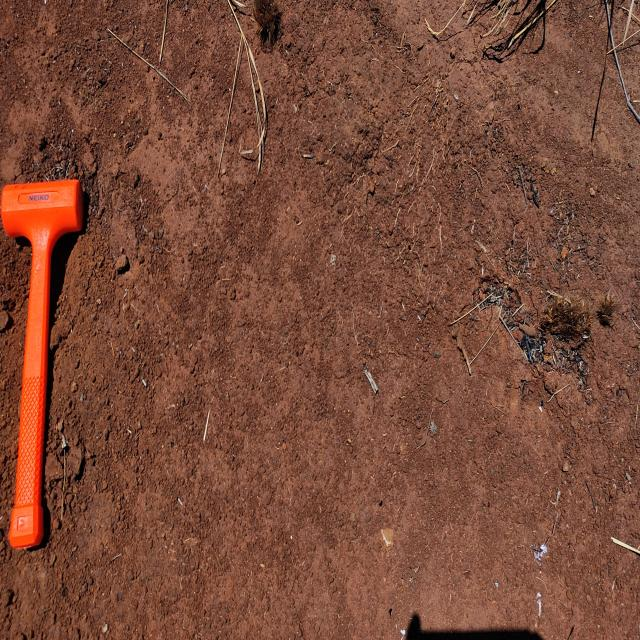Orange_hammer: (0, 177, 84, 549)
